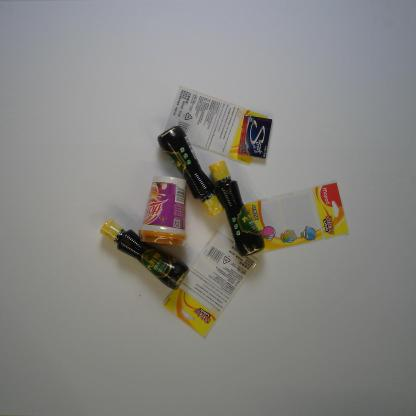Gum: (237, 114, 273, 160)
Instant Drink: (138, 174, 189, 248)
Seasoner: (100, 218, 190, 290), (157, 124, 225, 218), (208, 160, 265, 258)
Stationery: (161, 232, 260, 340), (163, 86, 270, 167), (244, 181, 350, 254)
